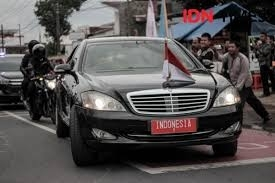plate: (151, 119, 197, 132)
